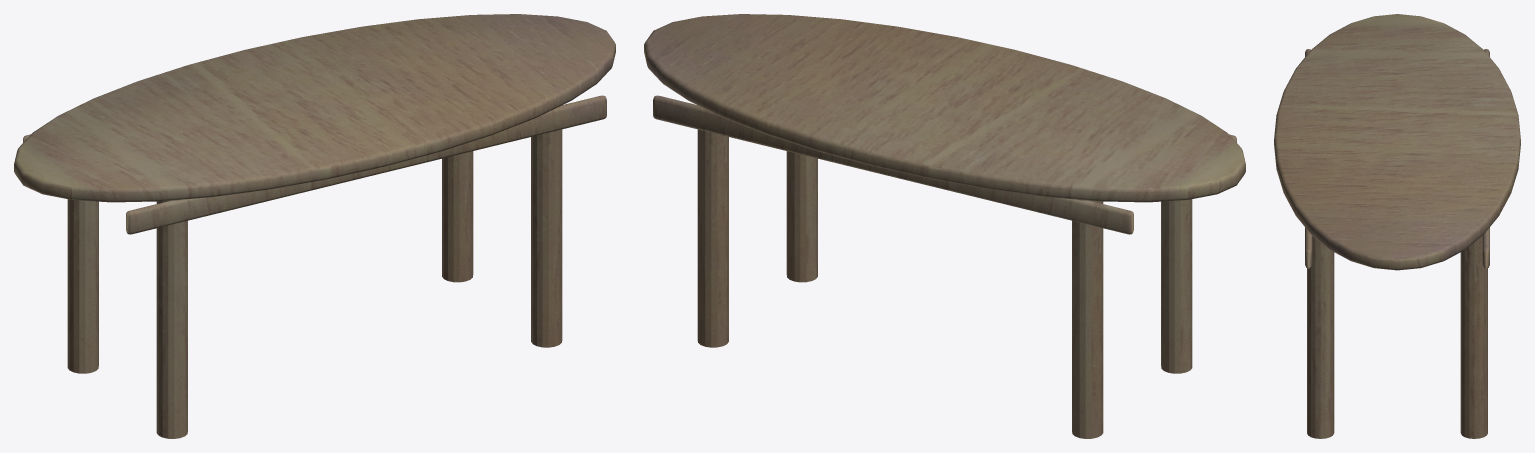
File: Antique_Table_12.fbx
The picture shows the model from 3 angles, left to right: view 1: azimuth 30°, elevation 25°; view 2: azimuth 150°, elevation 25°; view 3: azimuth 270°, elevation 25°; orthographic projection. The views are drawn at different scales.
Parts seen in each view (by area): view 1: Antique_Table; view 2: Antique_Table; view 3: Antique_Table.
Boxes of the visible parts, bbox=[...] form: Antique_Table: bbox=[14, 14, 615, 438]; Antique_Table: bbox=[644, 14, 1245, 438]; Antique_Table: bbox=[1274, 14, 1520, 438].
Size of the model in its own units: 2.08 by 0.86 by 0.88.
1 material, 1 textured.
